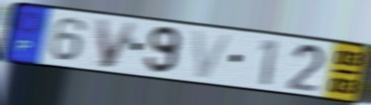1: (257, 39, 281, 88)
2: (284, 43, 330, 94)
6: (49, 16, 88, 63)
9: (143, 25, 183, 76)
V: (93, 17, 141, 71), (191, 29, 236, 81)
